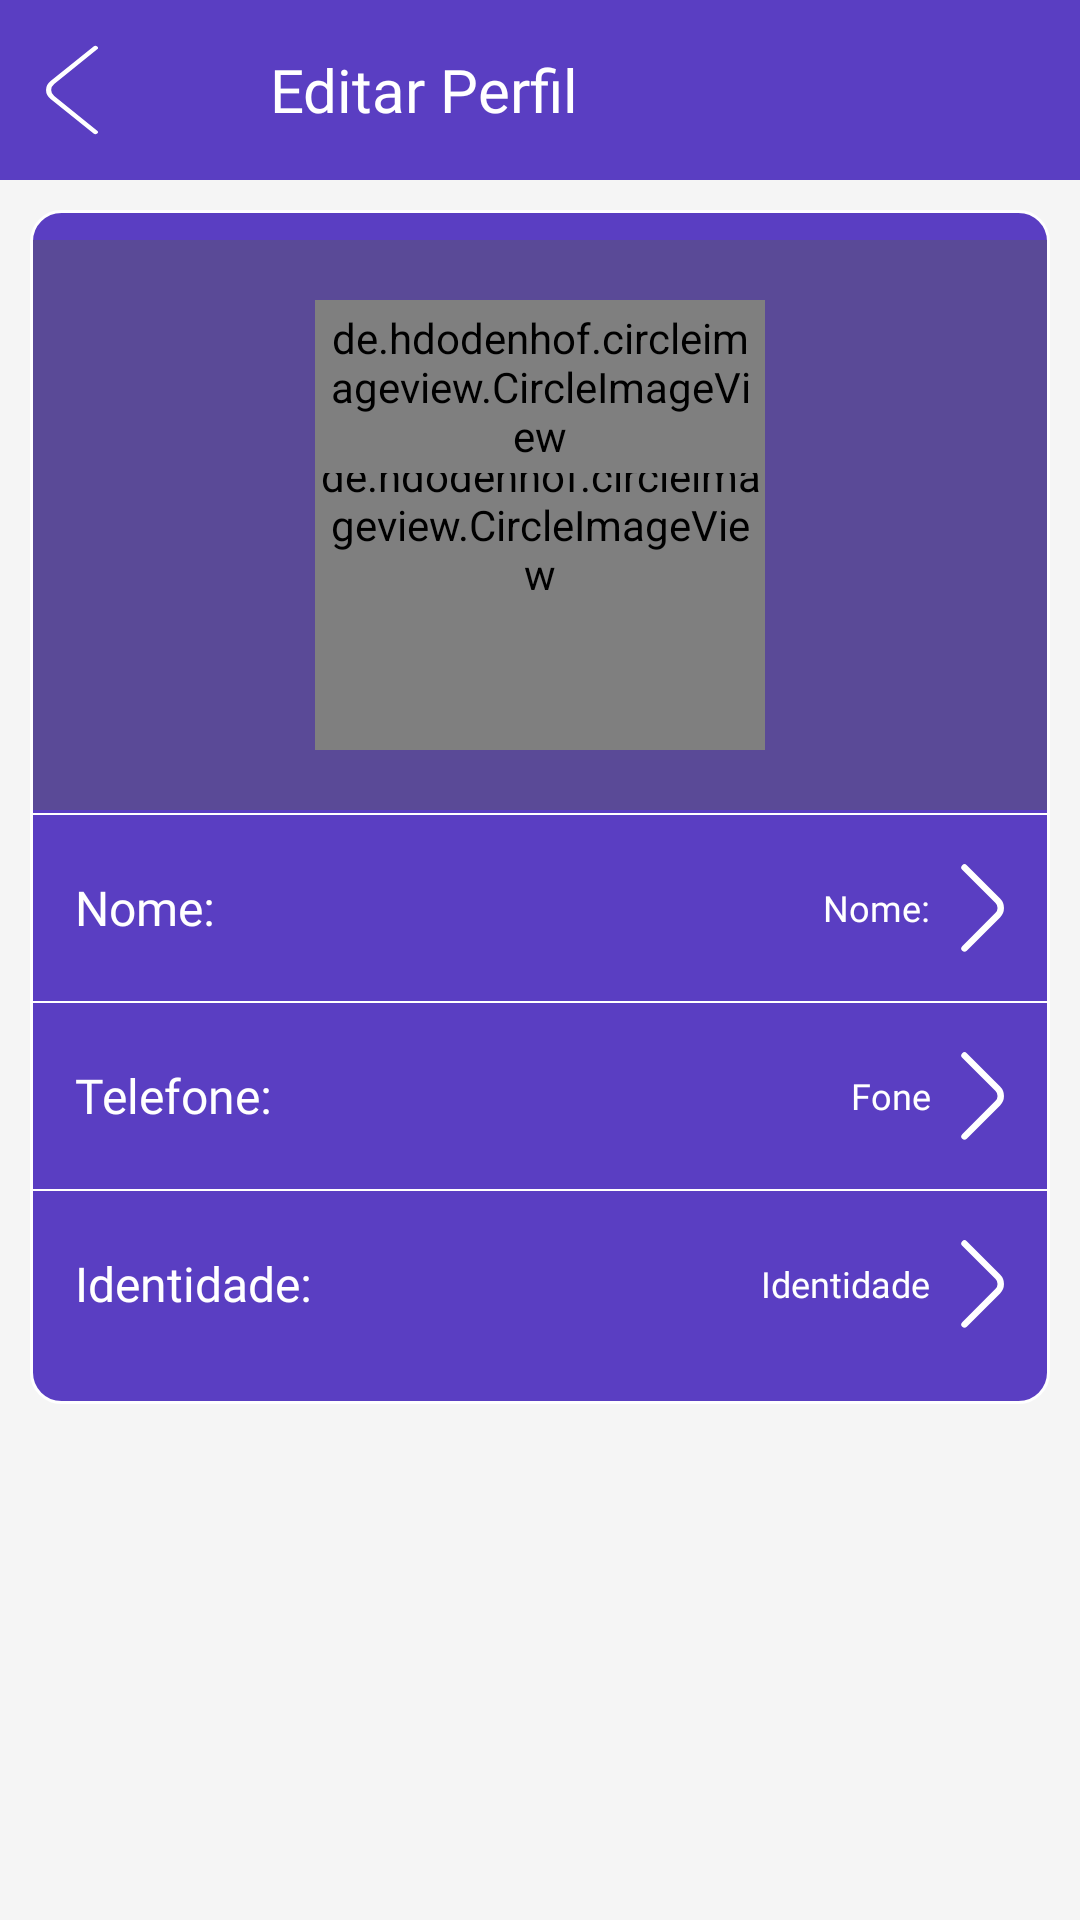

Screen size 1080px x 1920px. Icon name, then its box in pixels as [x1, y1, x2, y2]:
Botão voltar tela anterior: [46, 45, 98, 135]
Seta indicando avançar: [961, 864, 1004, 952], [961, 1052, 1004, 1140], [961, 1240, 1004, 1328]
